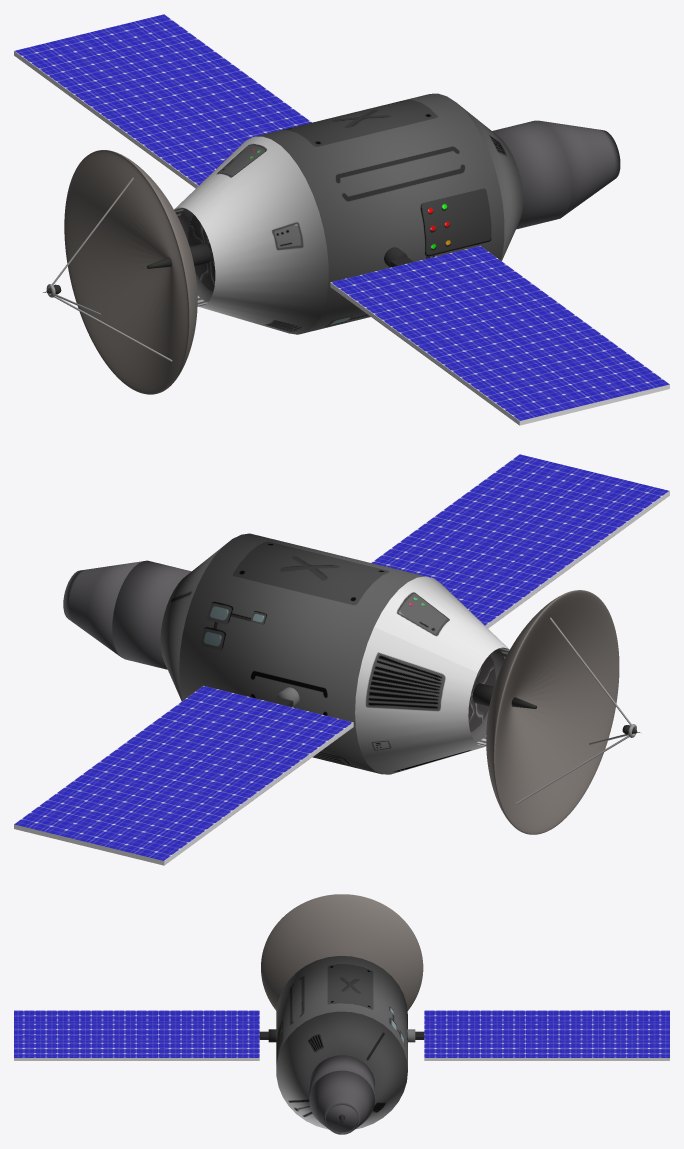
Rendered from Satellite.fbx.
3 views of the same model, one above another, from view 1: azimuth 30°, elevation 25°; view 2: azimuth 150°, elevation 25°; view 3: azimuth 270°, elevation 25° (orthographic). The views are drawn at different scales.
Parts seen in each view (by area): view 1: Cylinder, Cube.005, Cube.001, Cylinder.005, Cone.002, Cylinder.001, Cone.001, Cone; view 2: Cylinder, Cube.001, Cube.005, Cylinder.005, Cone.002, Cylinder.001, Cone.001, Cone; view 3: Cube.001, Cube.005, Cylinder.005, Cone, Cylinder, Cone.001, Cylinder.001.
Part boxes in pixels (x1,y1,x2,y2): Cylinder: (255, 93, 504, 332); Cube.005: (330, 246, 669, 425); Cube.001: (14, 14, 311, 188); Cylinder.005: (64, 150, 197, 394); Cone.002: (174, 136, 328, 334); Cylinder.001: (492, 120, 571, 229); Cone.001: (539, 120, 620, 215); Cone: (457, 103, 523, 260); Cylinder: (179, 533, 424, 773); Cube.001: (14, 686, 353, 865); Cube.005: (371, 454, 669, 628); Cylinder.005: (486, 590, 619, 834); Cone.002: (355, 576, 509, 774); Cylinder.001: (112, 560, 191, 669); Cone.001: (63, 561, 142, 656); Cone: (160, 547, 222, 701); Cube.001: (424, 1010, 669, 1060); Cube.005: (14, 1010, 259, 1060); Cylinder.005: (261, 894, 423, 1010); Cone: (276, 1011, 407, 1129); Cylinder: (276, 956, 407, 1069); Cone.001: (309, 1070, 374, 1134); Cylinder.001: (309, 1055, 374, 1097).
Size of the model in its own units: 651 by 246 by 996.
